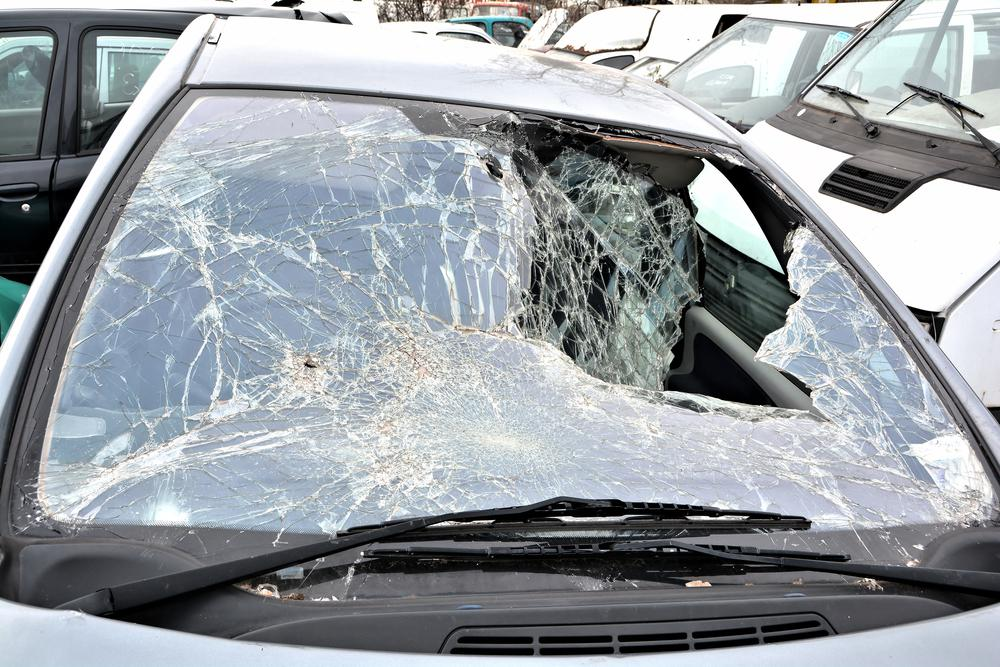glass shatter: (11, 90, 1000, 601)
